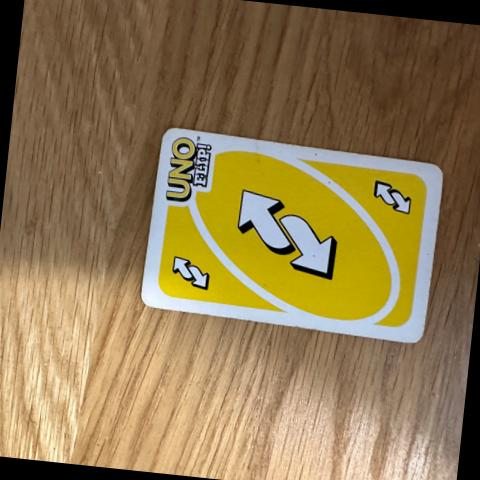lyellowrevers-20: (153, 243, 222, 302)
